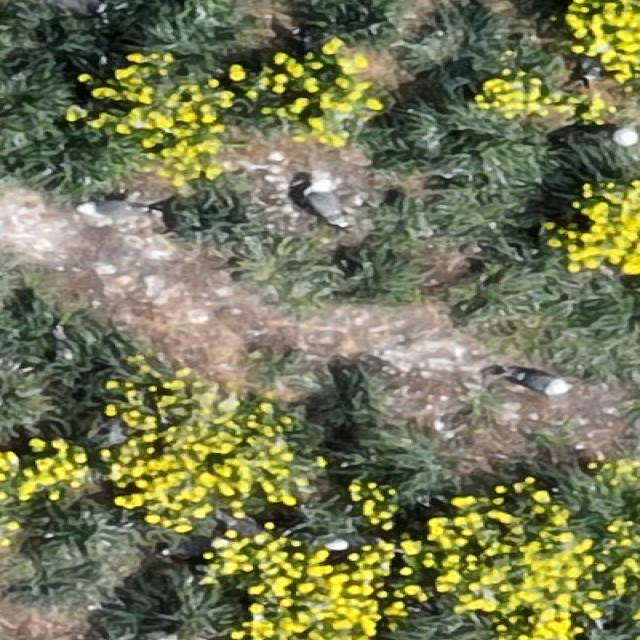umineko: (302, 179, 364, 233), (518, 372, 564, 394), (84, 202, 136, 220)
